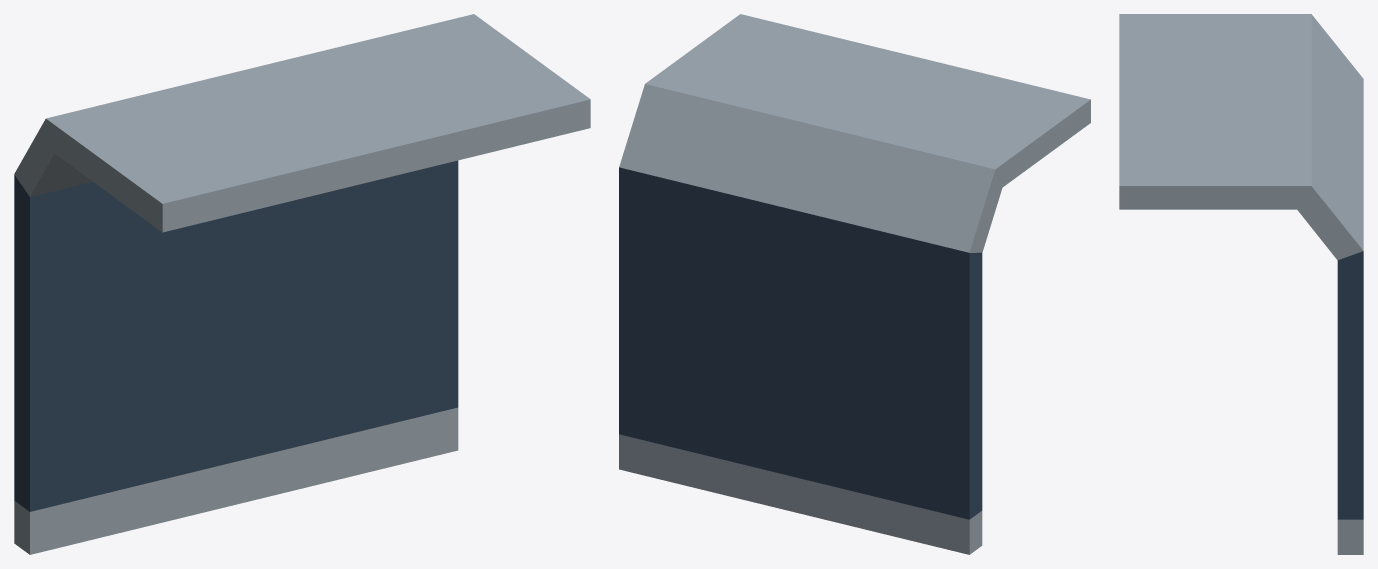
The picture shows the model from 3 angles, left to right: view 1: azimuth 30°, elevation 25°; view 2: azimuth 150°, elevation 25°; view 3: azimuth 270°, elevation 25°; orthographic projection. The views are drawn at different scales.
Parts seen in each view (by area): view 1: shoulder_left_001; view 2: shoulder_left_001; view 3: shoulder_left_001.
Boxes of the visible parts, left/top/right/bottom form: shoulder_left_001: left=14, top=14, right=590, bottom=554; shoulder_left_001: left=619, top=14, right=1090, bottom=554; shoulder_left_001: left=1119, top=14, right=1363, bottom=554.
Bounding box in the file's own units: 0.3126 × 0.3125 × 0.1875.
2 materials, 2 textured.
